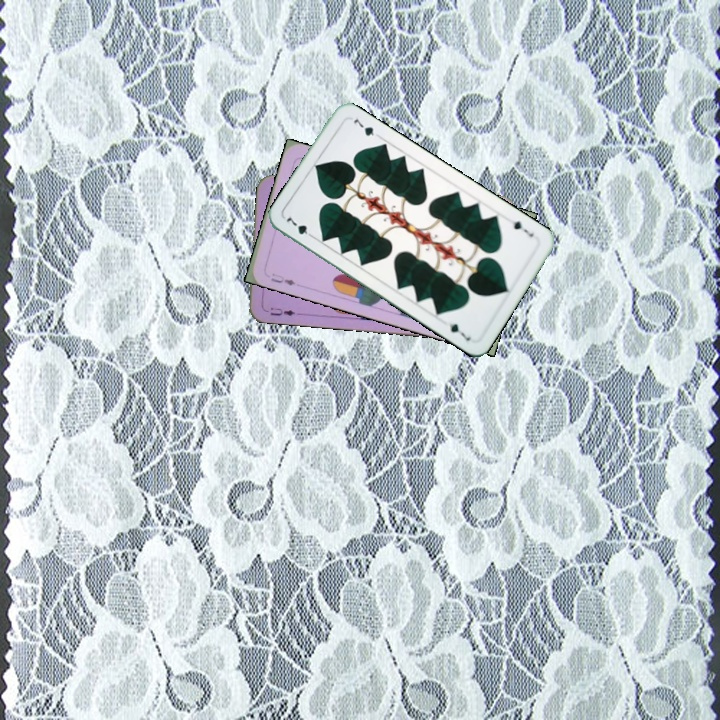EU: (267, 269, 298, 288), (266, 303, 301, 319)
G7: (282, 212, 317, 241), (509, 217, 536, 240)
